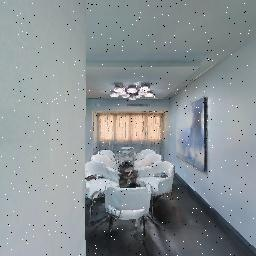chair: (104, 183, 157, 244), (134, 161, 187, 207), (81, 157, 119, 219)
